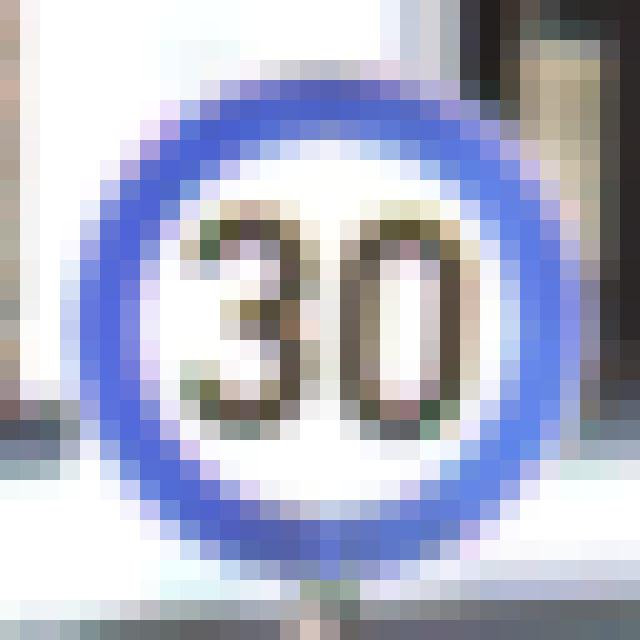SPEED LIMIT 30: (122, 84, 518, 558)
